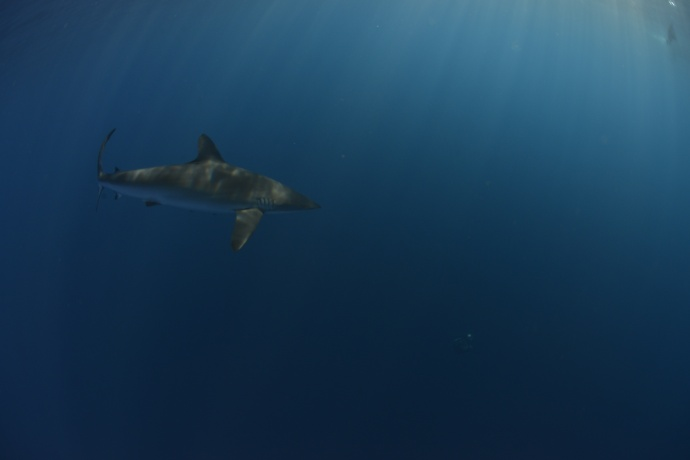Sedoso: (77, 120, 330, 256)
